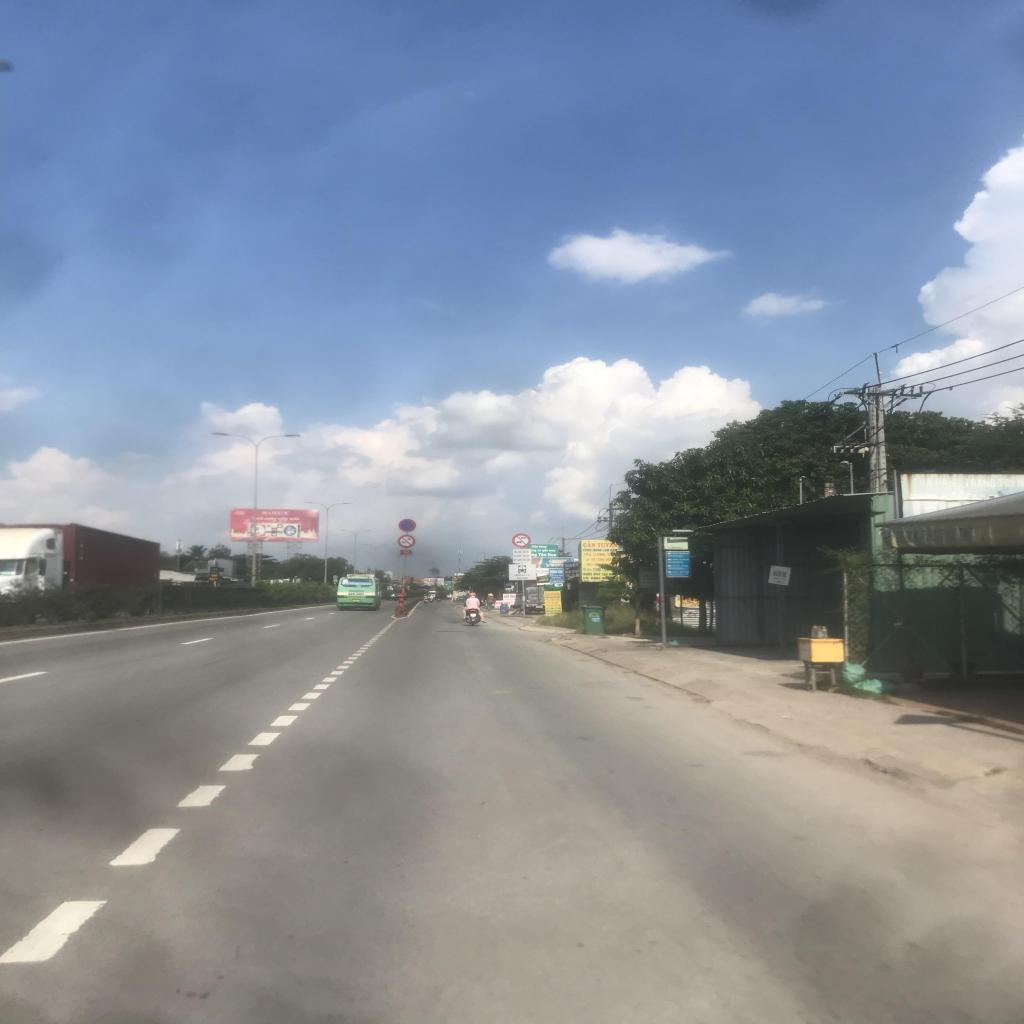cam_dung_xe_va_do_xe: (399, 519, 417, 532)
cam_o_to_tai_va_xe_khach: (512, 533, 531, 548)
cam_xe_2_banh_va_xe_3_banh_co_dong_co: (398, 534, 415, 548)
khac: (508, 564, 536, 580), (512, 549, 532, 563)
